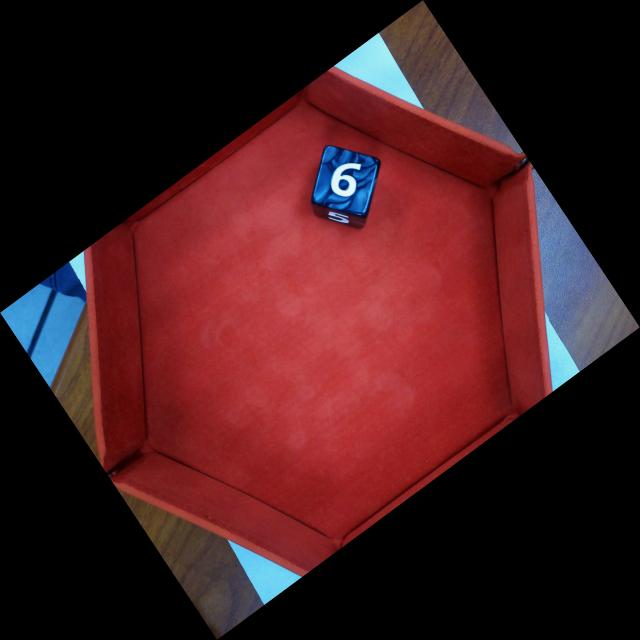dice: (309, 143, 383, 219)
